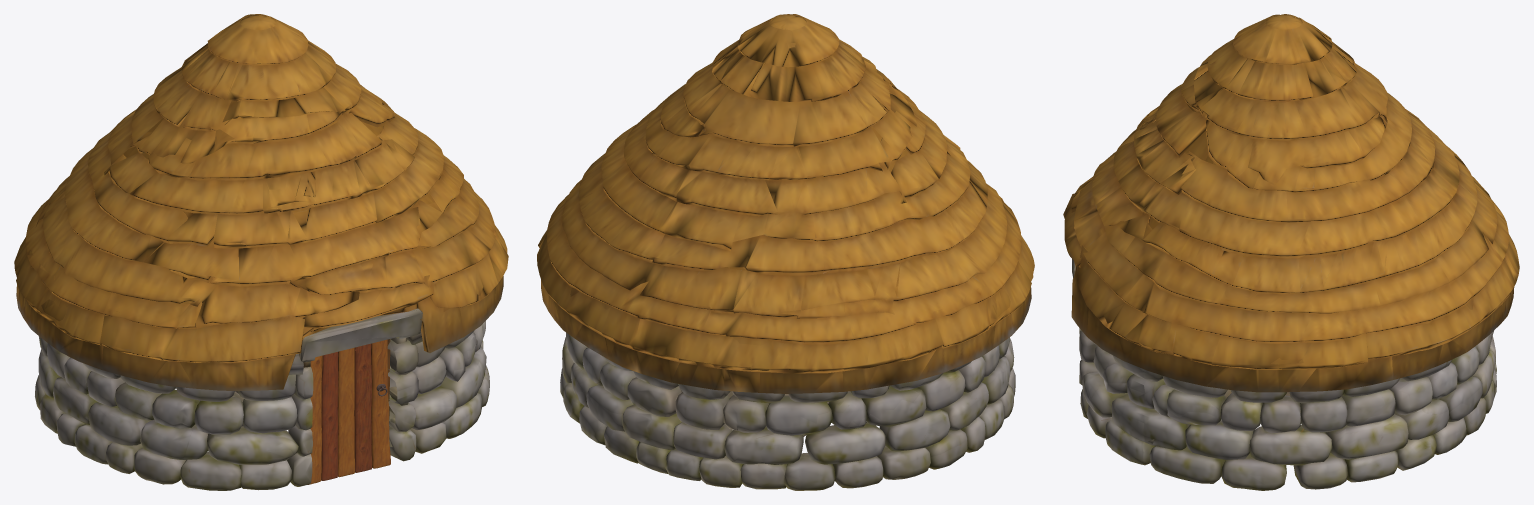
File: palloza_brais_meshy.glb
The picture shows the model from 3 angles, left to right: view 1: azimuth 30°, elevation 25°; view 2: azimuth 150°, elevation 25°; view 3: azimuth 270°, elevation 25°; orthographic projection.
Parts seen in each view (by area): view 1: Cuerpo, Hoja; view 2: Cuerpo; view 3: Cuerpo.
Boxes of the visible parts, <box> form: Cuerpo: <box>14,14,508,490</box>; Hoja: <box>308,339,390,484</box>; Cuerpo: <box>537,14,1034,490</box>; Cuerpo: <box>1063,14,1519,490</box>.
Size of the model in its own units: 3.9 by 3.35 by 3.66.
Materials: 2 (2 with a texture image).
